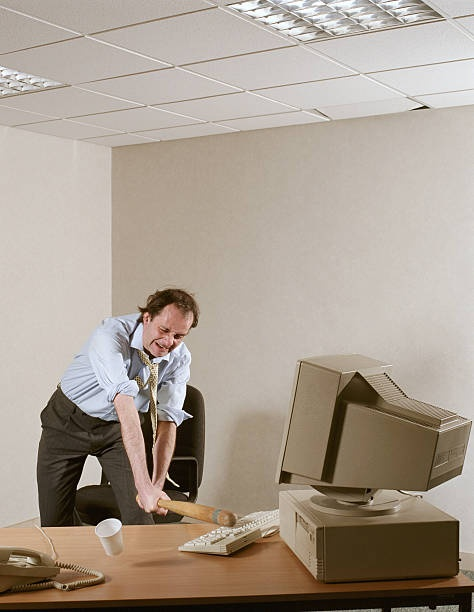bita: (155, 494, 234, 526)
